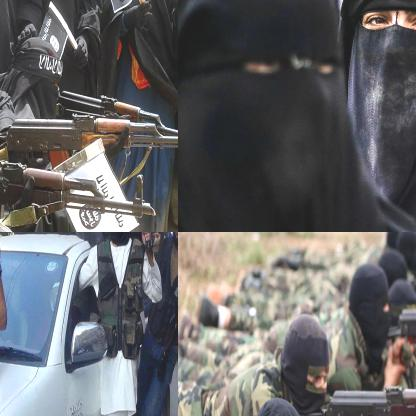rifle: (0, 115, 177, 179), (0, 161, 157, 231), (52, 81, 177, 127), (318, 375, 415, 415), (373, 299, 415, 381), (155, 232, 177, 380)
